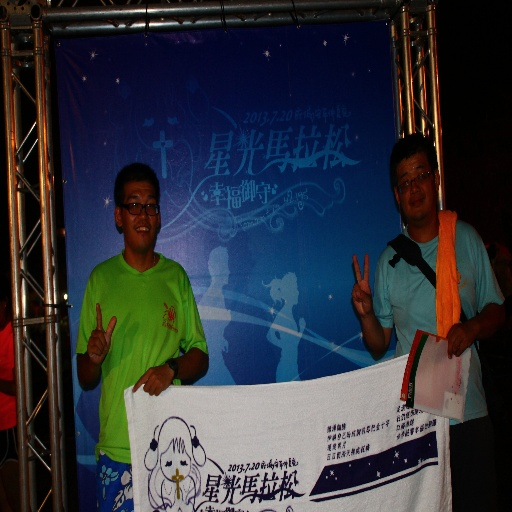hand: (87, 302, 117, 366), (350, 253, 373, 321), (132, 363, 174, 396), (446, 325, 479, 363), (221, 334, 228, 353), (225, 309, 232, 327), (298, 316, 306, 331)
